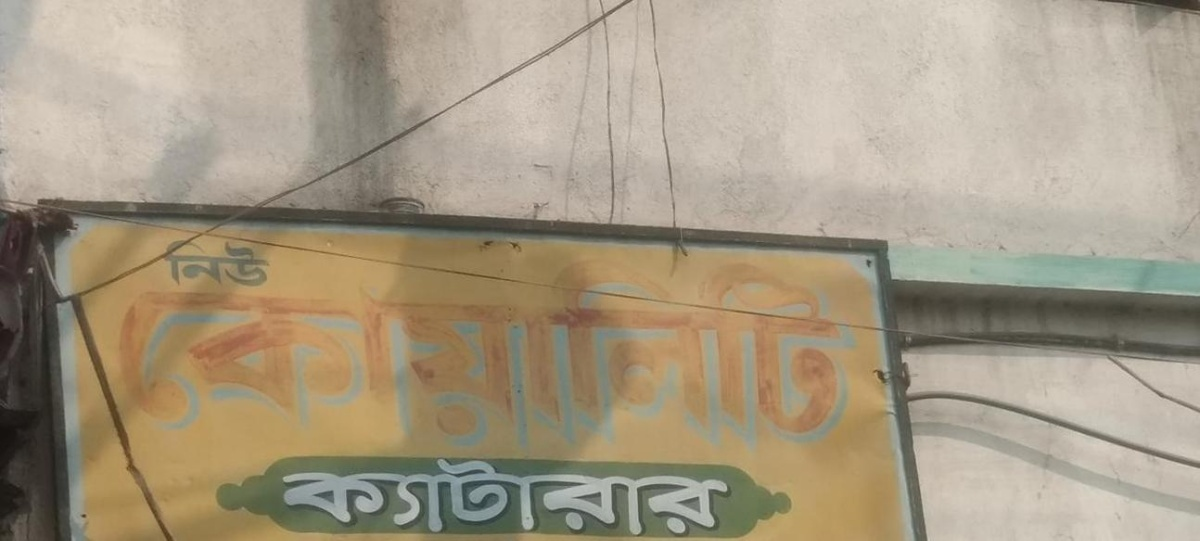text: (129, 252, 144, 456), (145, 252, 160, 456), (161, 252, 176, 456), (177, 252, 192, 456), (193, 252, 208, 456), (209, 252, 224, 456), (225, 252, 240, 456), (241, 252, 256, 456), (257, 252, 272, 456), (273, 252, 288, 456), (289, 252, 304, 456), (305, 252, 320, 456), (321, 252, 336, 456), (337, 252, 352, 456), (353, 252, 368, 456), (369, 252, 384, 456), (385, 252, 400, 456), (401, 252, 416, 456), (417, 252, 432, 456), (433, 252, 448, 456), (449, 252, 464, 456), (465, 252, 480, 456), (481, 252, 496, 456), (497, 252, 512, 456), (513, 252, 528, 456), (529, 252, 544, 456), (545, 252, 560, 456), (561, 252, 576, 456), (577, 252, 592, 456), (593, 252, 608, 456), (609, 252, 624, 456), (625, 252, 640, 456), (641, 252, 656, 456), (657, 252, 672, 456), (673, 252, 688, 456), (689, 252, 704, 456), (705, 252, 720, 456), (721, 252, 736, 456), (737, 252, 752, 456), (753, 252, 768, 456), (769, 252, 784, 456), (785, 252, 800, 456), (801, 252, 816, 456), (817, 252, 832, 456), (833, 252, 848, 456), (115, 252, 128, 456), (849, 252, 859, 456), (289, 455, 304, 537), (305, 455, 320, 537), (321, 455, 336, 537), (337, 455, 352, 537), (353, 455, 368, 537), (369, 455, 384, 537), (385, 455, 400, 537), (401, 455, 416, 537), (417, 455, 432, 537), (433, 455, 448, 537), (449, 455, 464, 537), (465, 455, 480, 537), (481, 455, 496, 537), (497, 455, 512, 537), (513, 455, 528, 537), (529, 455, 544, 537), (545, 455, 560, 537), (561, 455, 576, 537), (577, 455, 592, 537), (593, 455, 608, 537), (609, 455, 624, 537), (625, 455, 640, 537), (641, 455, 656, 537), (657, 455, 672, 537), (673, 455, 688, 537), (689, 455, 704, 537), (705, 455, 720, 537), (177, 234, 192, 294), (193, 234, 208, 294), (209, 234, 224, 294), (225, 234, 240, 294), (241, 234, 256, 294), (257, 234, 272, 294), (721, 455, 731, 537), (163, 234, 176, 294), (281, 455, 288, 537), (273, 234, 277, 294)
